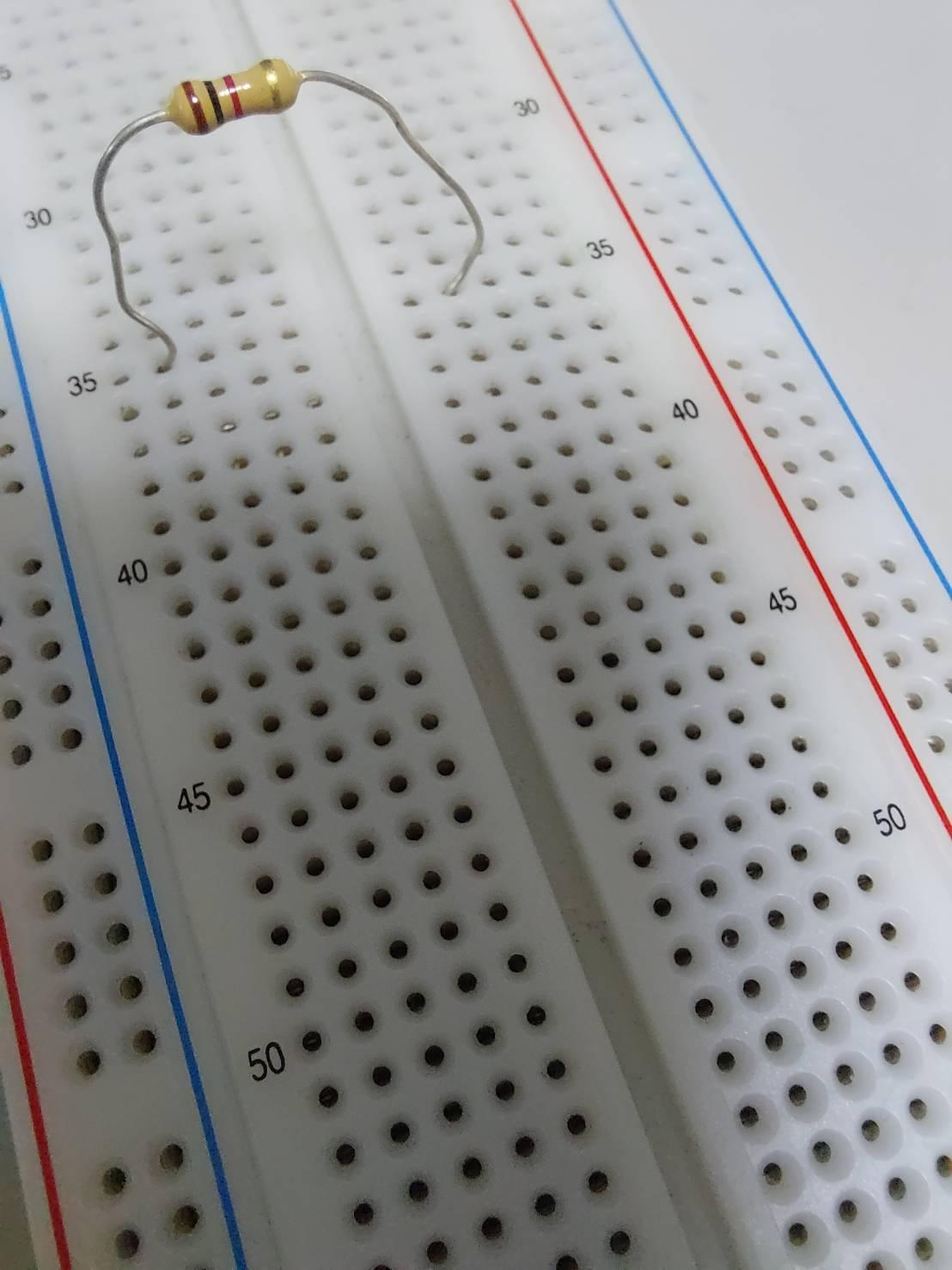resistor: (155, 61, 308, 136)
